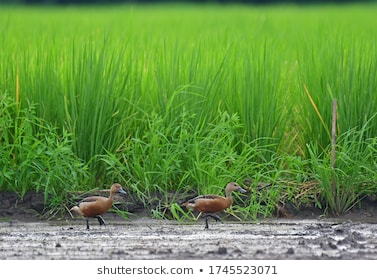duck: (173, 166, 279, 249), (65, 172, 135, 236)
